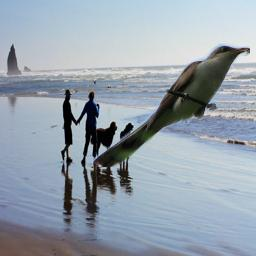Cuckoo: (92, 43, 250, 167)
